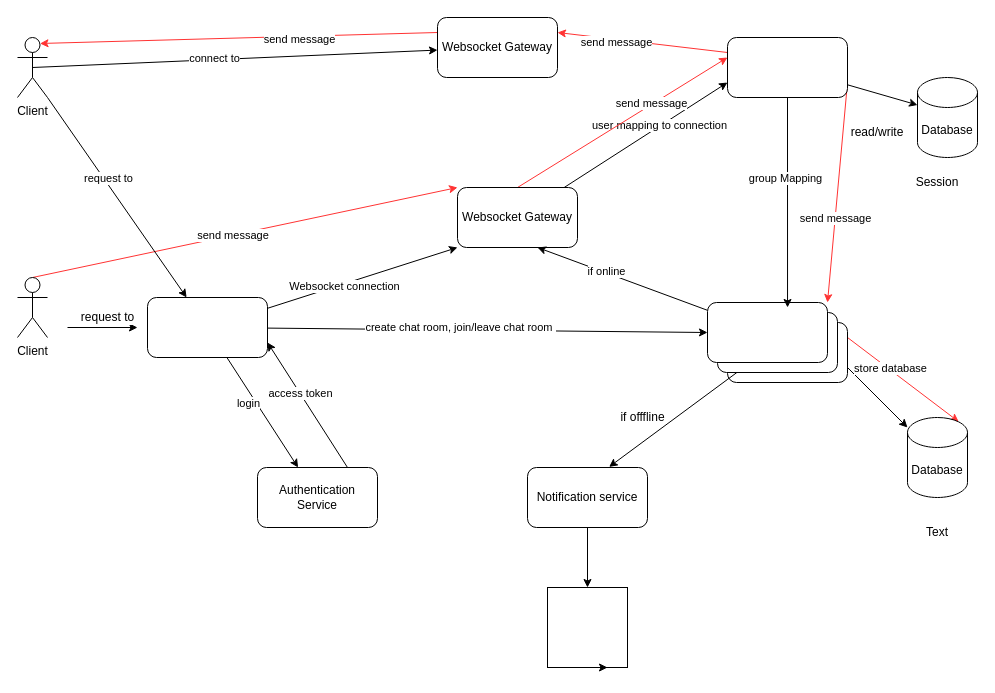
Image size: 995x693. Some labels were removed from this diagram. Each missing label, with the centre of its shape:
"client end user device" belongs at (x=587, y=627).
"Gateway API" belongs at (x=207, y=327).
"Room Service" belongs at (x=767, y=332).
"Session service" belongs at (x=787, y=67).
